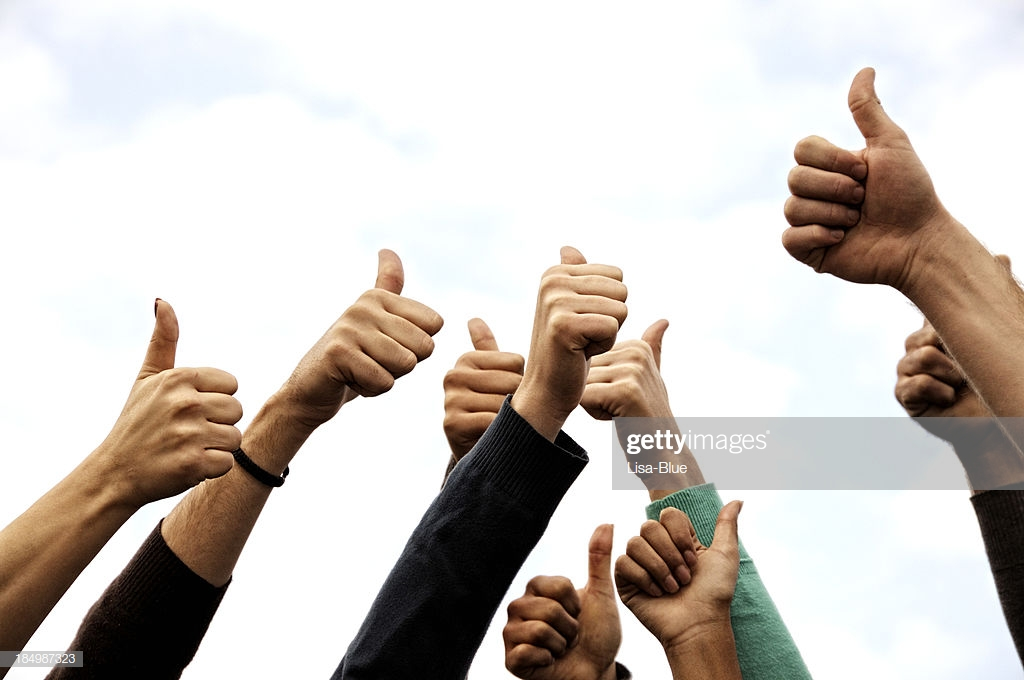thumbsup: (782, 65, 885, 277), (143, 297, 244, 499), (321, 248, 444, 399), (500, 521, 615, 674), (615, 498, 745, 606), (578, 318, 670, 410), (444, 318, 522, 425)
